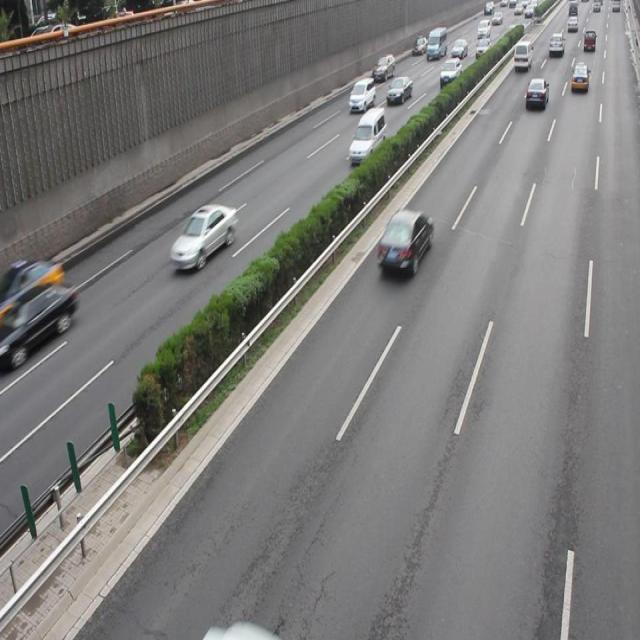car: (10, 280, 79, 360), (170, 202, 237, 270), (377, 208, 433, 278), (1, 258, 64, 313)
truck: (348, 106, 385, 163)
